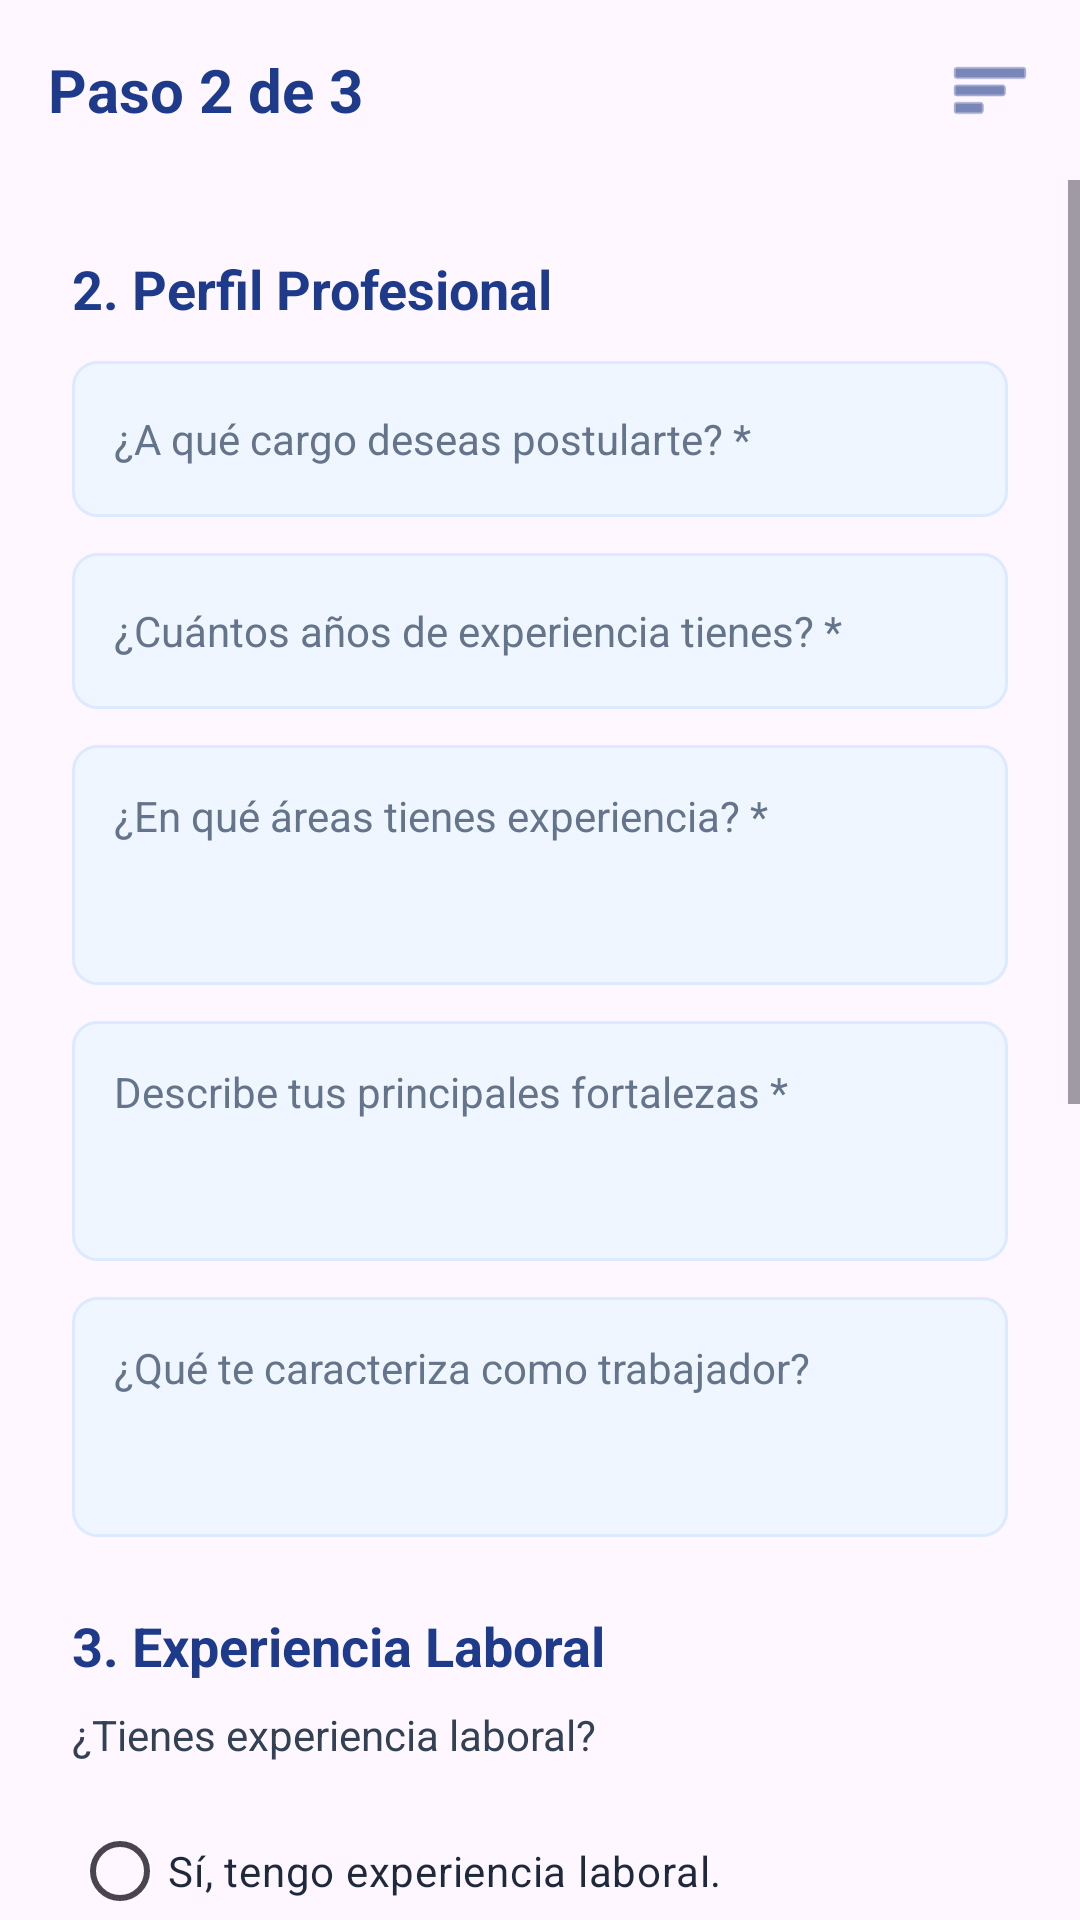

Named icons in this screenshot (1080px x 1920px) and their centers, [x,y]:
Menú: [990,90]
